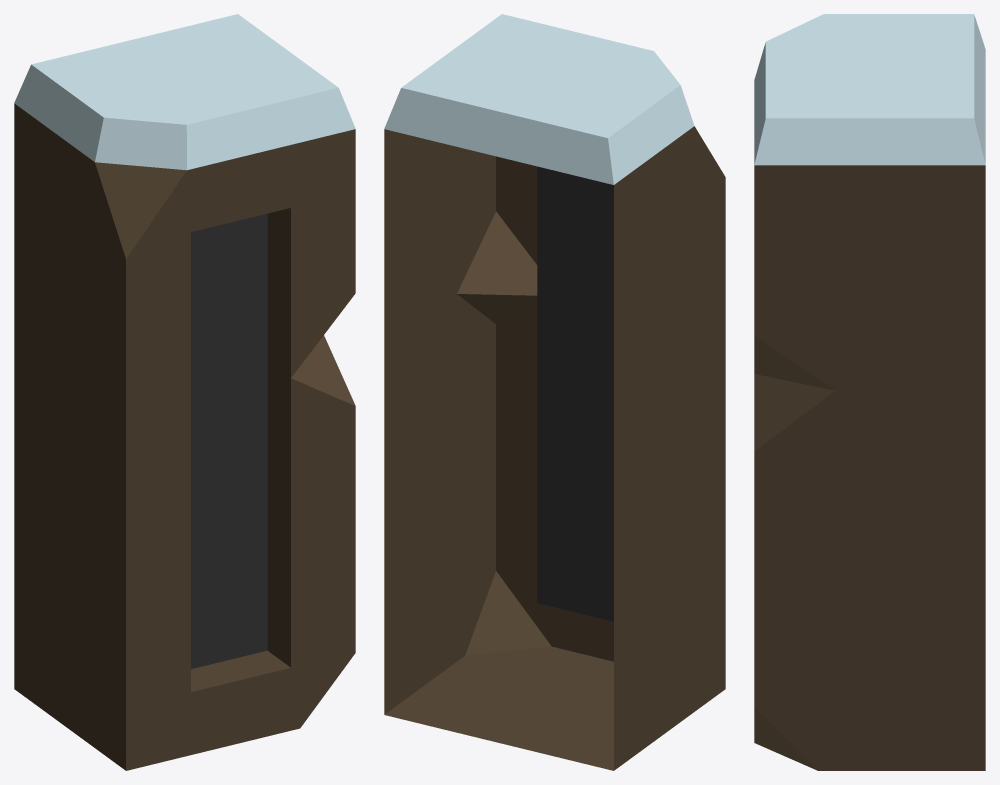
Rendered from SM_Bld_ArrowSlit_01_Snow.glb.
The picture shows the model from 3 angles, left to right: view 1: azimuth 30°, elevation 25°; view 2: azimuth 150°, elevation 25°; view 3: azimuth 270°, elevation 25°; orthographic projection. The views are drawn at different scales.
Parts seen in each view (by area): view 1: SM_Bld_ArrowSlit_01_Snow; view 2: SM_Bld_ArrowSlit_01_Snow; view 3: SM_Bld_ArrowSlit_01_Snow.
Boxes of the visible parts, <box> form: SM_Bld_ArrowSlit_01_Snow: <box>14,14,355,770</box>; SM_Bld_ArrowSlit_01_Snow: <box>384,14,725,770</box>; SM_Bld_ArrowSlit_01_Snow: <box>754,14,985,770</box>.
Size of the model in its own units: 0.3658 by 0.9525 by 0.3089.
1 material, 1 textured.
